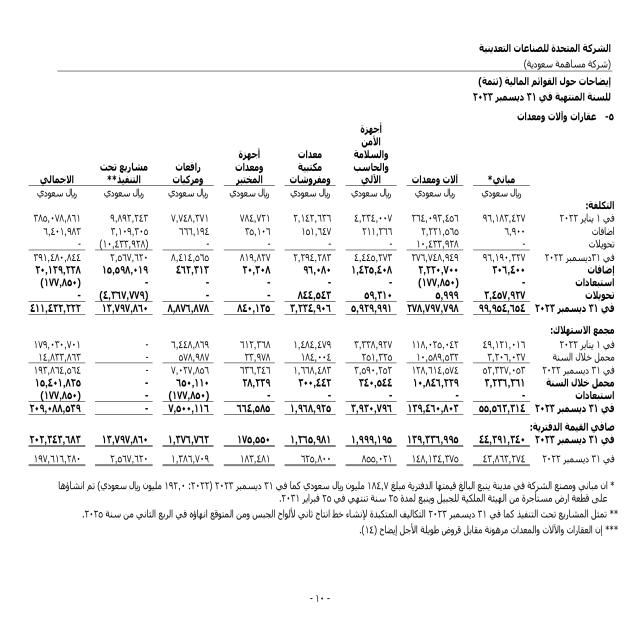notes: (465, 75, 614, 90)
table: (15, 124, 625, 478)
